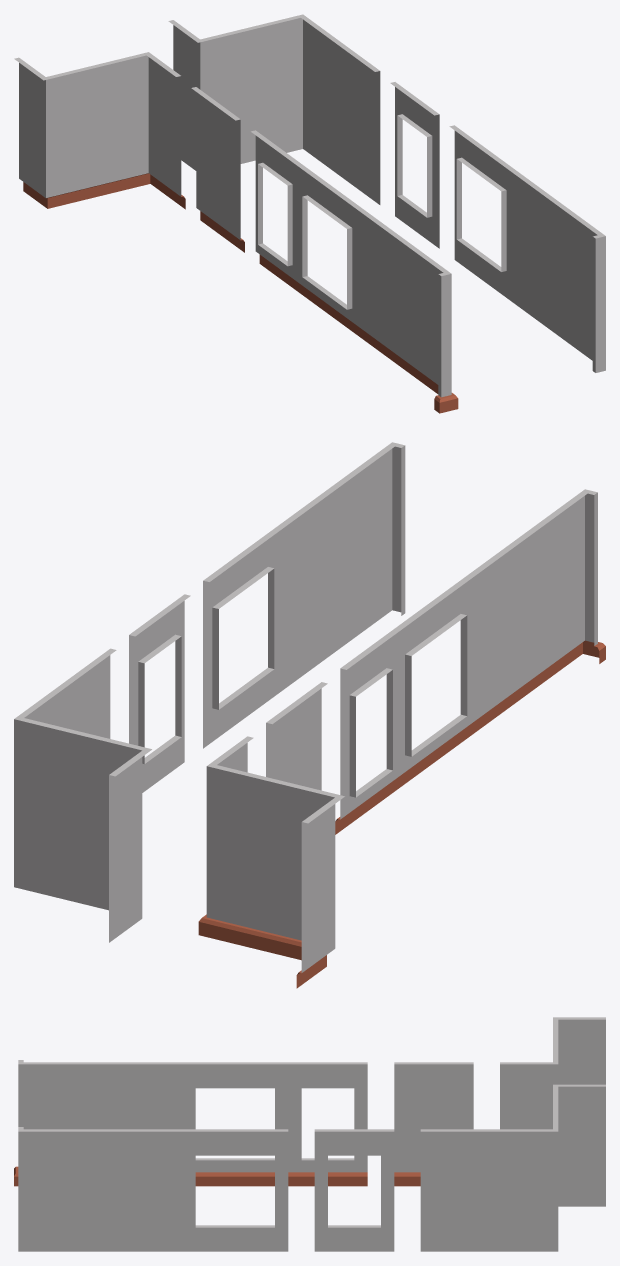
The model's file is AllWalls.fbx.
The picture shows the model from 3 angles, top to bottom: view 1: azimuth 30°, elevation 25°; view 2: azimuth 150°, elevation 25°; view 3: azimuth 270°, elevation 25°; orthographic projection. The views are drawn at different scales.
Parts seen in each view (by area): view 1: Wall_Inside_outerCorner, Wall_Outside_outerCorner, Wall_Inside_innerCorner, Wall_Outside_2Meter, Wall_Inside_2meters, Wall_Outside_innerCorner, Wall_Outside_1.5Meter, Wall_Inside_1.5meter, Wall_Outside_WindowBig, Wall_Inside_BigWindow, Wall_Outside_SmallWindow, Wall_Inside_smallWindow (+4 smaller); view 2: Wall_Inside_outerCorner, Wall_Outside_outerCorner, Wall_Outside_2Meter, Wall_Inside_2meters, Wall_Outside_innerCorner, Wall_Inside_innerCorner, Wall_Outside_WindowBig, Wall_Inside_BigWindow, Wall_Outside_1Meter, Wall_Inside_smallWindow, Wall_Inside_1meter, Wall_Outside_SmallWindow (+4 smaller); view 3: Wall_Outside_2Meter, Wall_Outside_1.5Meter, Wall_Outside_WindowBig, Wall_Outside_outerCorner, Wall_Inside_2meters, Wall_Inside_1.5meter, Wall_Outside_1Meter, Wall_Inside_BigWindow, Wall_Outside_SmallWindow, Wall_Outside_innerCorner, Wall_Inside_smallWindow, Wall_Inside_outerCorner (+4 smaller).
Part boxes in pixels (box(x1,y1,x2,y2)): Wall_Inside_outerCorner: box(89, 52, 185, 209); Wall_Outside_outerCorner: box(246, 14, 335, 172); Wall_Inside_innerCorner: box(14, 57, 94, 208); Wall_Outside_2Meter: box(509, 169, 573, 346); Wall_Inside_2meters: box(355, 206, 422, 382); Wall_Outside_innerCorner: box(168, 20, 248, 170); Wall_Outside_1.5Meter: box(331, 38, 380, 204); Wall_Inside_1.5meter: box(191, 87, 244, 252); Wall_Outside_WindowBig: box(449, 125, 513, 302); Wall_Inside_BigWindow: box(295, 163, 363, 339); Wall_Outside_SmallWindow: box(390, 82, 439, 248); Wall_Inside_smallWindow: box(251, 130, 304, 295); Wall_Inside_outerCorner: box(198, 736, 280, 953); Wall_Outside_outerCorner: box(14, 689, 87, 904); Wall_Outside_2Meter: box(277, 472, 357, 693); Wall_Inside_2meters: box(465, 519, 549, 739); Wall_Outside_innerCorner: box(84, 733, 151, 942); Wall_Inside_innerCorner: box(274, 780, 344, 988); Wall_Outside_WindowBig: box(203, 526, 282, 748); Wall_Inside_BigWindow: box(390, 573, 475, 793); Wall_Outside_1Meter: box(351, 445, 394, 639); Wall_Inside_smallWindow: box(335, 628, 401, 834); Wall_Inside_1meter: box(539, 492, 587, 685); Wall_Outside_SmallWindow: box(129, 594, 190, 792); Wall_Outside_2Meter: box(76, 1129, 182, 1251); Wall_Outside_1.5Meter: box(420, 1129, 499, 1251); Wall_Outside_WindowBig: box(182, 1129, 288, 1251); Wall_Outside_outerCorner: box(500, 1107, 558, 1251); Wall_Inside_2meters: box(76, 1062, 182, 1129); Wall_Inside_1.5meter: box(394, 1062, 473, 1186); Wall_Outside_1Meter: box(23, 1129, 76, 1251); Wall_Inside_BigWindow: box(182, 1062, 288, 1186); Wall_Outside_SmallWindow: box(314, 1129, 394, 1251); Wall_Outside_innerCorner: box(553, 1084, 605, 1206); Wall_Inside_smallWindow: box(288, 1062, 367, 1186); Wall_Inside_outerCorner: box(500, 1039, 558, 1129).
Size of the model in its own units: 510 by 250 by 1118.
